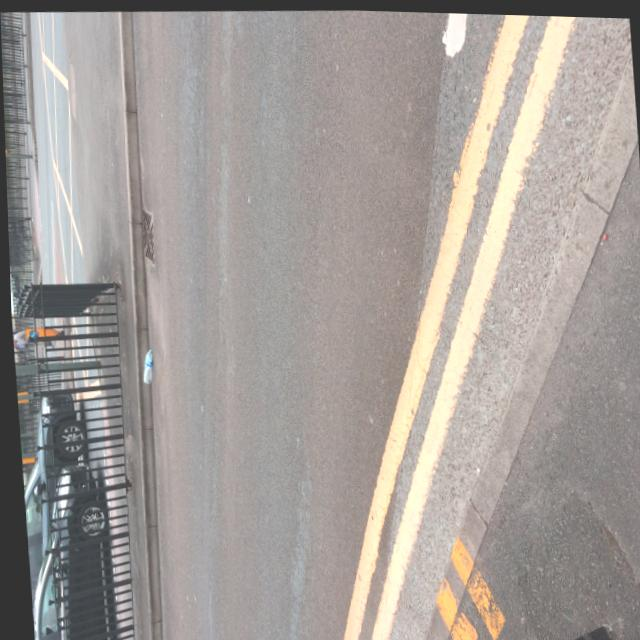Plastic: (136, 342, 156, 384)
